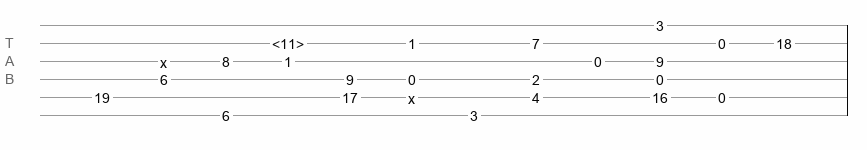0: (408, 72, 416, 82), (594, 54, 602, 64), (656, 72, 664, 82), (718, 36, 726, 46), (718, 90, 726, 100)
1: (284, 54, 292, 64), (408, 36, 416, 46)
16: (652, 90, 668, 100)
17: (342, 90, 358, 100)
18: (776, 36, 792, 46)
19: (94, 90, 110, 100)
2: (532, 72, 540, 82)
3: (470, 108, 478, 118), (656, 18, 664, 28)
4: (532, 90, 540, 100)
6: (160, 72, 168, 82), (222, 108, 230, 118)
7: (532, 36, 540, 46)
8: (222, 54, 230, 64)
9: (346, 72, 354, 82), (656, 54, 664, 64)
harmonic: (272, 36, 304, 46)
x: (160, 55, 167, 63), (408, 91, 415, 99)
